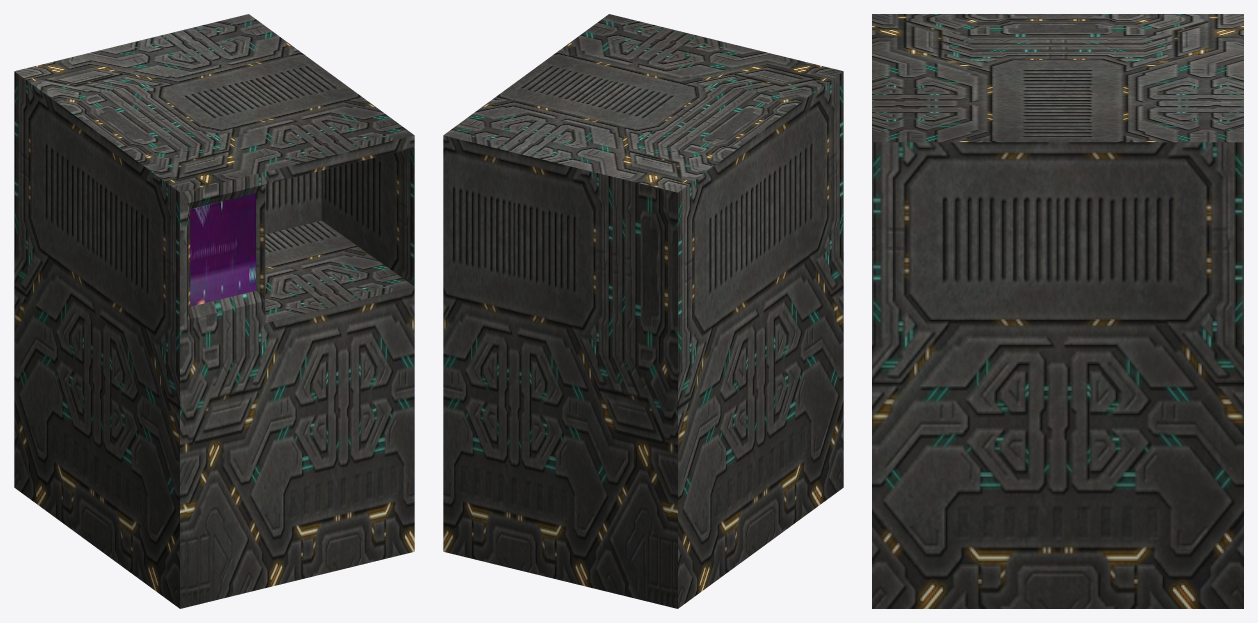
Rendered from machine1.fbx.
The picture shows the model from 3 angles, left to right: view 1: azimuth 30°, elevation 25°; view 2: azimuth 150°, elevation 25°; view 3: azimuth 270°, elevation 25°; orthographic projection. The views are drawn at different scales.
Visible parts, largest first — view 1: MaterialFBXASC032FBXASC0352142150880, MaterialFBXASC032FBXASC03511298; view 2: MaterialFBXASC032FBXASC0352142150880; view 3: MaterialFBXASC032FBXASC0352142150880.
Boxes of the visible parts, x1,y1,x2,y2 form: MaterialFBXASC032FBXASC0352142150880: (14,14,414,608); MaterialFBXASC032FBXASC03511298: (190,193,255,306); MaterialFBXASC032FBXASC0352142150880: (443,14,843,608); MaterialFBXASC032FBXASC0352142150880: (872,14,1243,608).
Bounding box in the file's own units: 979 × 1660 × 1199.
3 materials, 1 textured.
